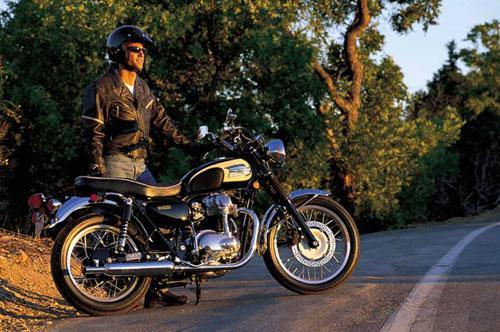motorcycle: (20, 114, 372, 320)
